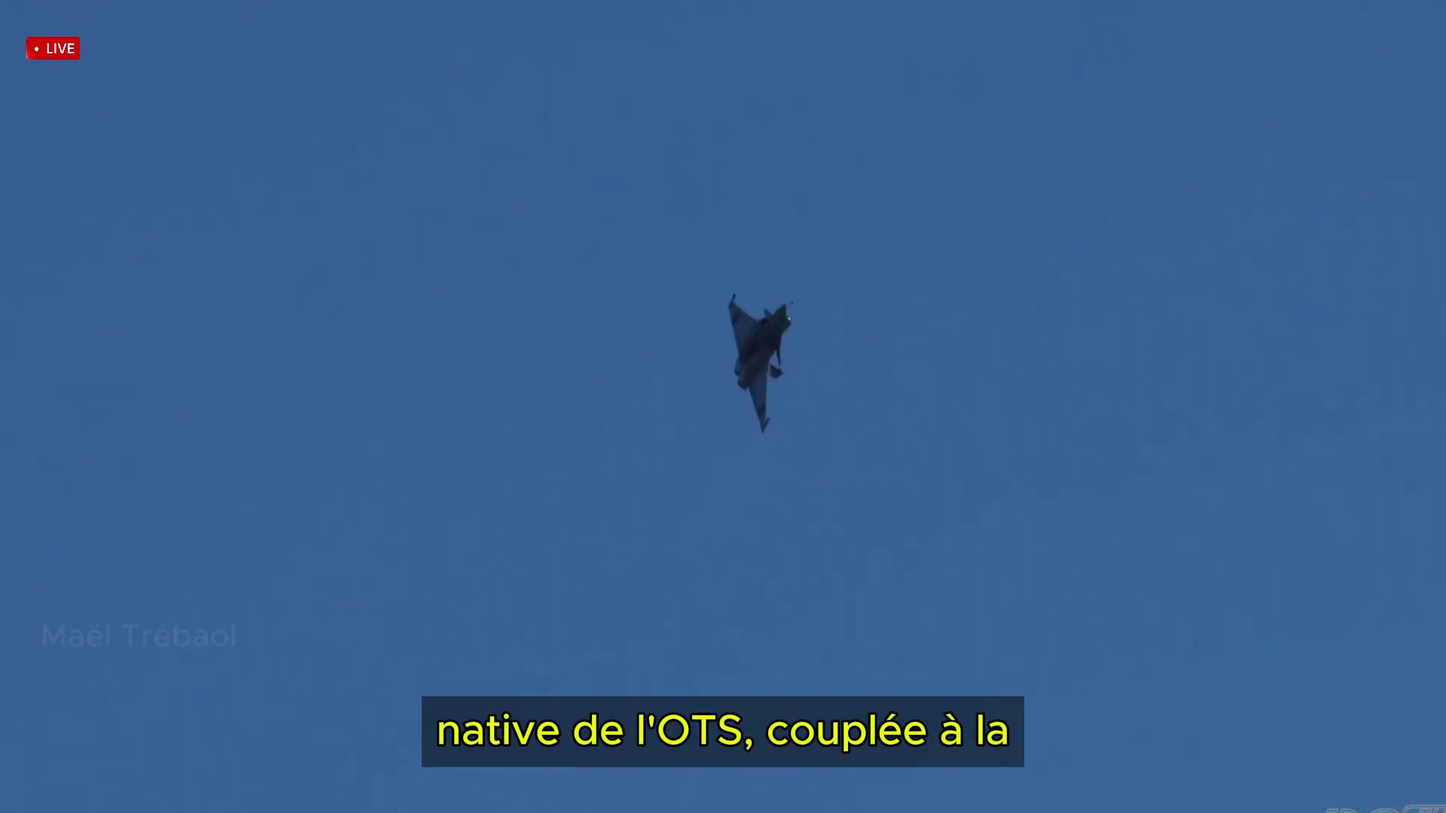Rafale: (724, 288, 794, 436)
